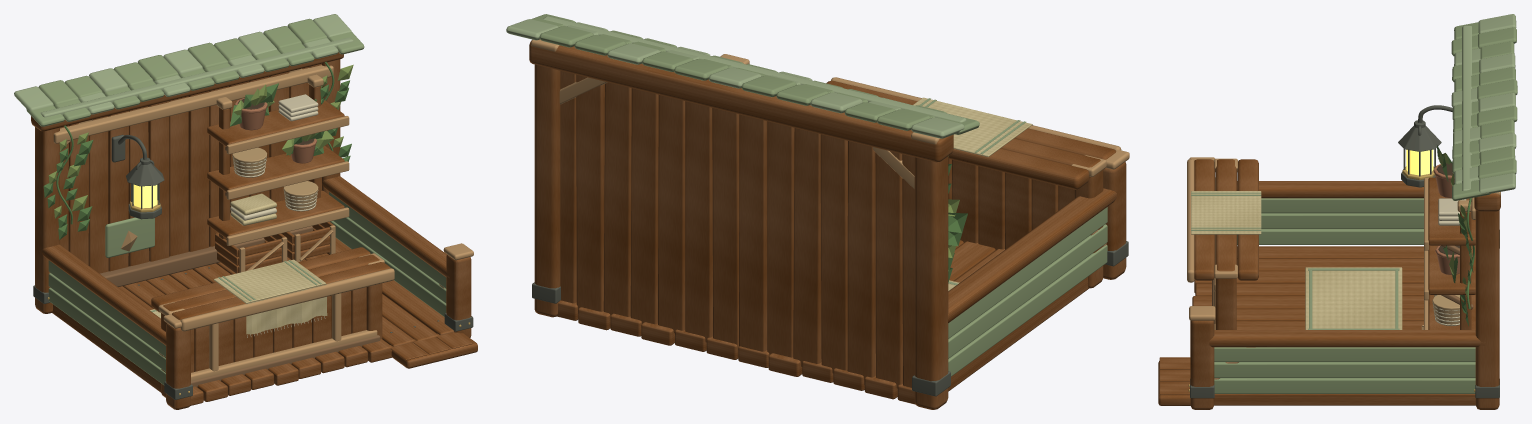
Rendered from garden-shop.glb.
3 renders of one model, left to right at view 1: azimuth 30°, elevation 25°; view 2: azimuth 150°, elevation 25°; view 3: azimuth 270°, elevation 25°, orthographic. The views are drawn at different scales.
Visible parts, largest first — view 1: Staggered oak deck plank.012, Recessed sage side boards.006, Rear upper framed rail.001, Sage fascia lip.001, Counter linen runner.001, Rear skirting beam.001, Decorative leafy plant.019, Deck rosehead nail.024, Frayed linen tassel.024, Decorative leafy plant.018, Small woven storage basket.002, Terracotta cachepot.002 (+1 smaller); view 2: Staggered oak deck plank.012, Recessed sage side boards.006, Sage fascia lip.001, Rear upper framed rail.001, Counter linen runner.001, Deck rosehead nail.024, Decorative leafy plant.019; view 3: Staggered oak deck plank.012, Recessed sage side boards.006, Counter linen runner.001, Sage fascia lip.001, Rear upper framed rail.001, Deck rosehead nail.024, Woven olive runner stripe.004, Decorative leafy plant.019, Frayed linen tassel.024, Terracotta cachepot.002, Small woven storage basket.002, Lantern amber glass.001 (+1 smaller).
Part boxes in pixels (<box>): Staggered oak deck plank.012: <box>31,52,477,409</box>; Recessed sage side boards.006: <box>26,18,446,385</box>; Rear upper framed rail.001: <box>53,65,473,381</box>; Sage fascia lip.001: <box>14,14,353,117</box>; Counter linen runner.001: <box>150,193,327,334</box>; Rear skirting beam.001: <box>100,147,380,387</box>; Decorative leafy plant.019: <box>43,61,351,239</box>; Deck rosehead nail.024: <box>33,134,473,399</box>; Frayed linen tassel.024: <box>230,94,325,337</box>; Decorative leafy plant.018: <box>48,64,353,218</box>; Small woven storage basket.002: <box>232,147,318,211</box>; Terracotta cachepot.002: <box>234,98,316,163</box>; Staggered oak deck plank.012: <box>529,40,1126,409</box>; Recessed sage side boards.006: <box>531,14,1107,376</box>; Sage fascia lip.001: <box>506,16,966,138</box>; Rear upper framed rail.001: <box>531,39,1129,246</box>; Counter linen runner.001: <box>913,97,1032,290</box>; Deck rosehead nail.024: <box>532,241,1128,396</box>; Decorative leafy plant.019: <box>948,164,967,282</box>; Staggered oak deck plank.012: <box>1158,159,1500,409</box>; Recessed sage side boards.006: <box>1214,22,1517,393</box>; Counter linen runner.001: <box>1191,191,1434,329</box>; Sage fascia lip.001: <box>1451,14,1516,193</box>; Rear upper framed rail.001: <box>1187,157,1500,379</box>; Deck rosehead nail.024: <box>1190,105,1499,398</box>; Woven olive runner stripe.004: <box>1191,192,1399,329</box>; Decorative leafy plant.019: <box>1437,145,1474,325</box>; Frayed linen tassel.024: <box>1432,198,1466,325</box>; Terracotta cachepot.002: <box>1433,164,1459,274</box>; Small woven storage basket.002: <box>1432,295,1459,326</box>; Lantern amber glass.001: <box>1406,149,1433,175</box>.
Bounding box in the file's own units: 4.61 × 2.94 × 4.08.
Materials: 16 (2 with a texture image).
